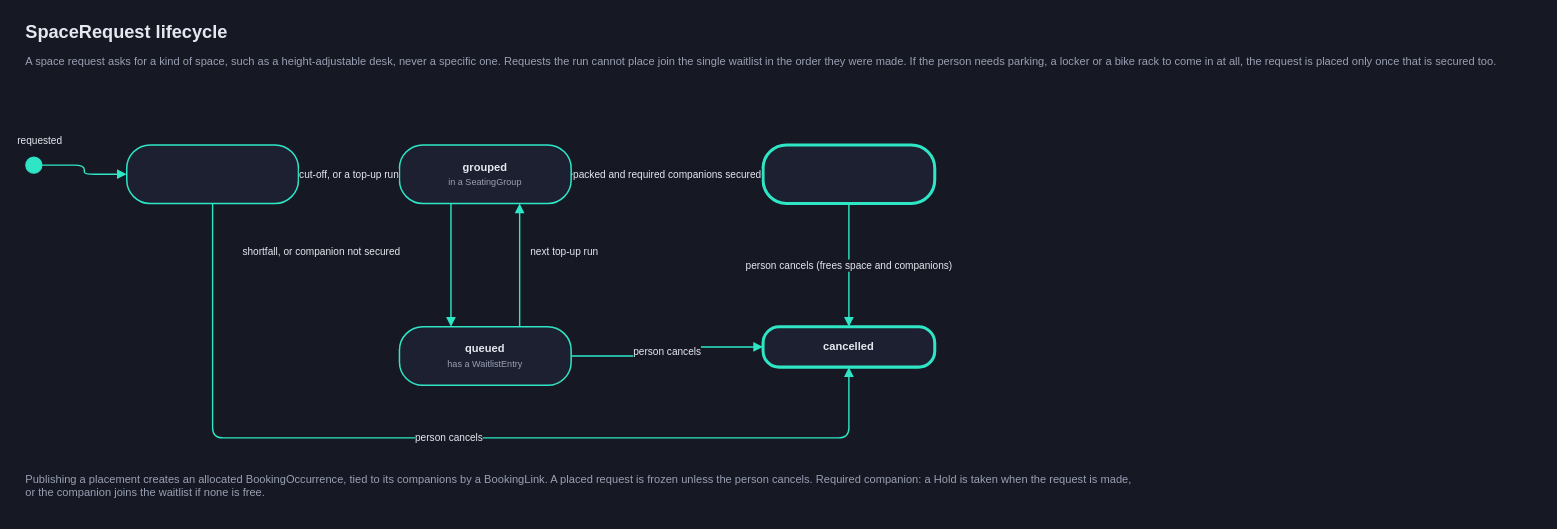
Some shapes in this 1557 by 529 pixel diagram are drawn without their labels. Each missing label, with the centre of its shape:
"open requested_at stamps the queue order" belongs at [212,174].
"placed Placement in a published plan" belongs at [848,174].
